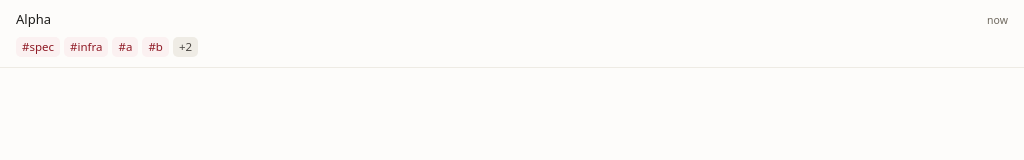
Test: a row › shows the rest of its tags from +N
This screenshot has width=1024, height=160.
Check: the text "#d" is not shown
Click the button "+2" at (186, 47), box [173, 37, 198, 57]
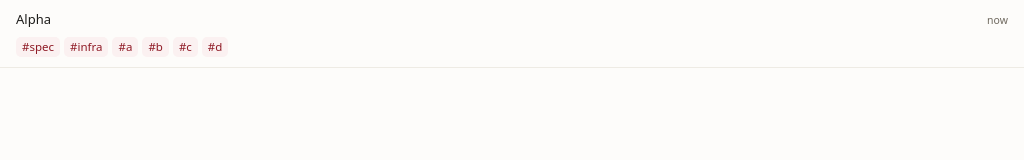
Check: the button "#d" is shown, box [202, 37, 228, 57]
